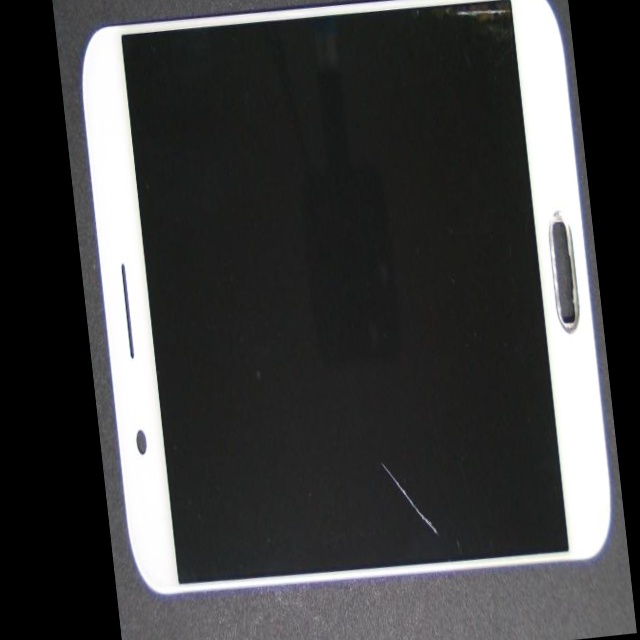scratch: (214, 148, 533, 640)
